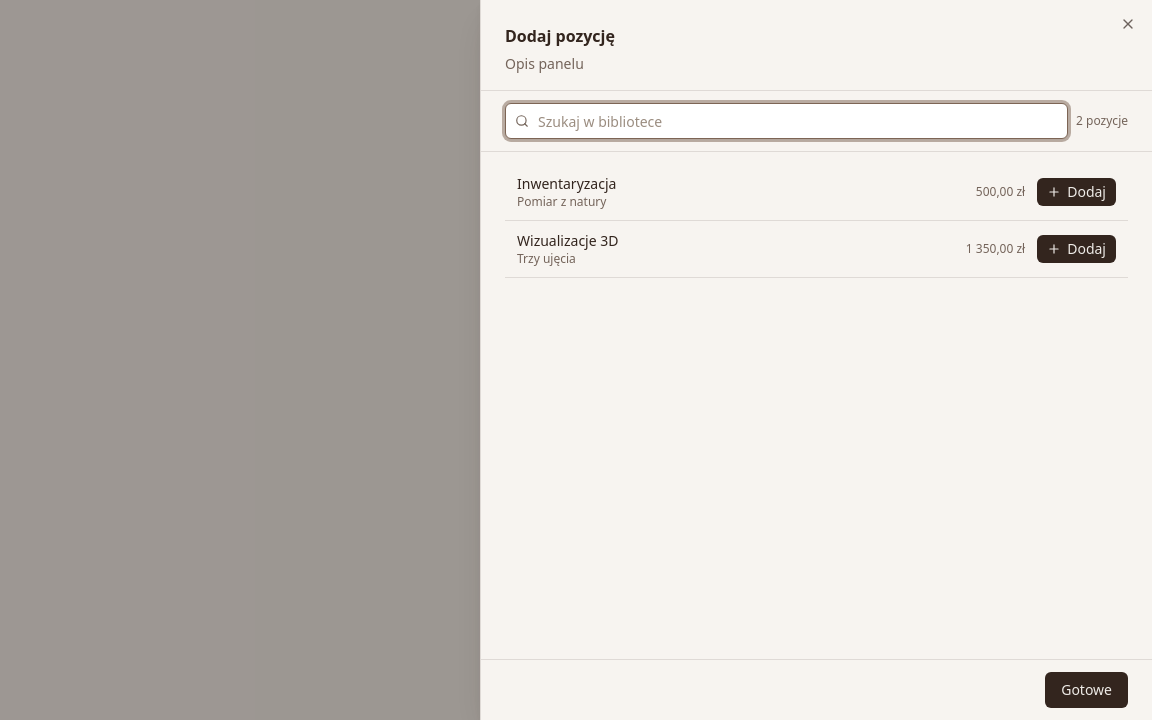
LibraryPickerSheet › rozróżnia pustą bibliotekę od braku dopasowań
Step 1. Type "zzz" into the field labelled "Szukaj w bibliotece" → x=787, y=121, box [505, 103, 1068, 139]
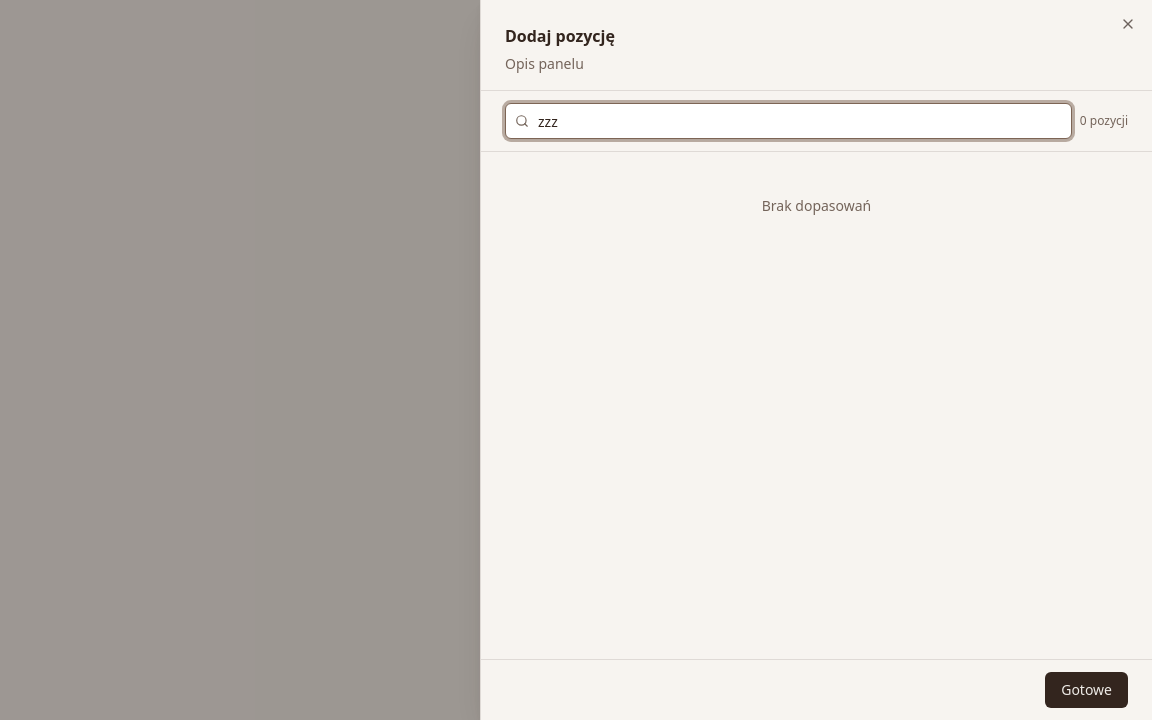
Now the text "Brak dopasowań" is shown, box [762, 196, 871, 215]
